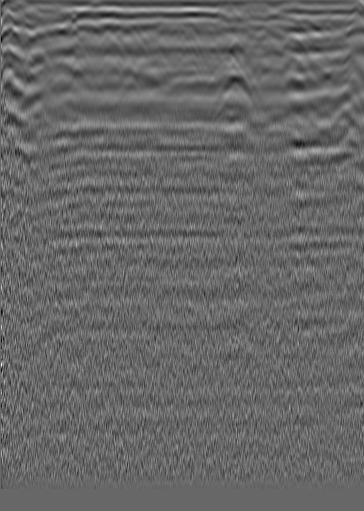가스: (217, 110, 254, 150)
상수: (307, 21, 327, 41)
오수: (27, 22, 47, 42)
우수: (150, 18, 170, 38)
